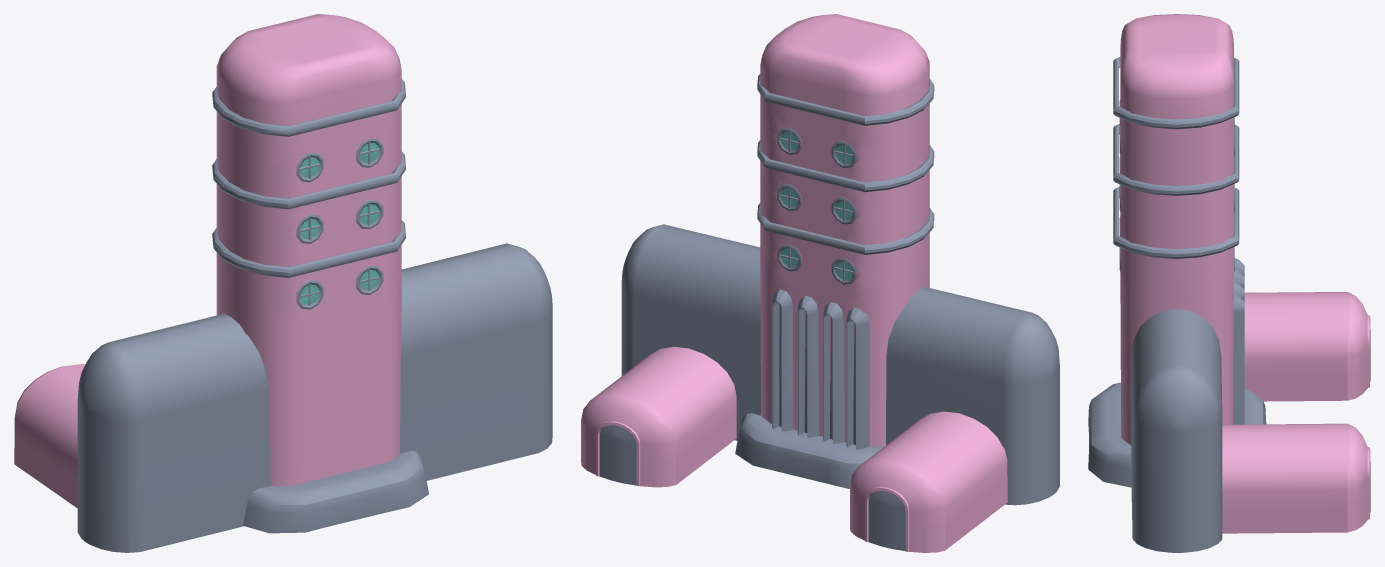
The model's file is SM_Skyscraper_13.fbx.
3 views of the same model, side by side, from view 1: azimuth 30°, elevation 25°; view 2: azimuth 150°, elevation 25°; view 3: azimuth 270°, elevation 25° (orthographic). The views are drawn at different scales.
Parts seen in each view (by area): view 1: SM_Skyscraper_13; view 2: SM_Skyscraper_13; view 3: SM_Skyscraper_13.
Boxes of the visible parts, <box> form: SM_Skyscraper_13: <box>14,14,552,552</box>; SM_Skyscraper_13: <box>581,14,1059,552</box>; SM_Skyscraper_13: <box>1088,14,1370,552</box>.
Bounding box in the file's own units: 1974 × 1812 × 1137.
